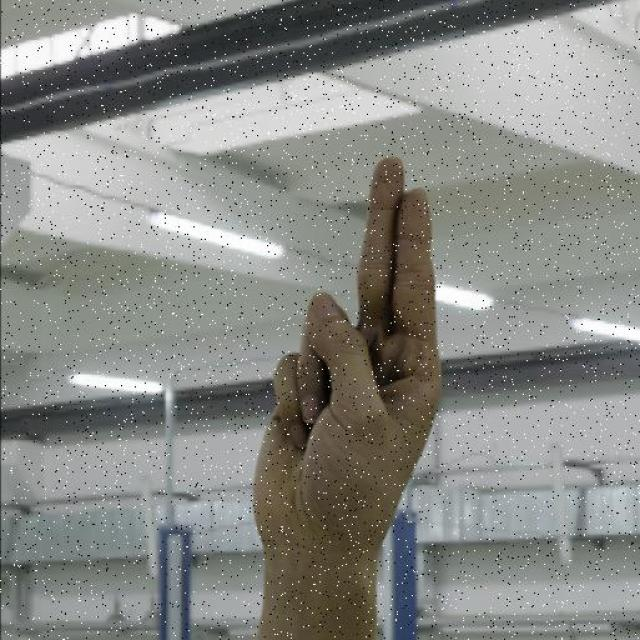U: (243, 150, 447, 560)
